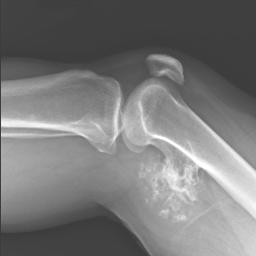cancer: (140, 134, 201, 223)
